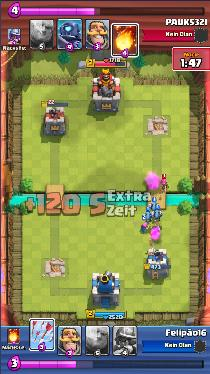ally_minion: (153, 210, 163, 222), (149, 201, 159, 210), (143, 211, 151, 220)
enemy_archer: (138, 222, 149, 234), (160, 178, 170, 190)
